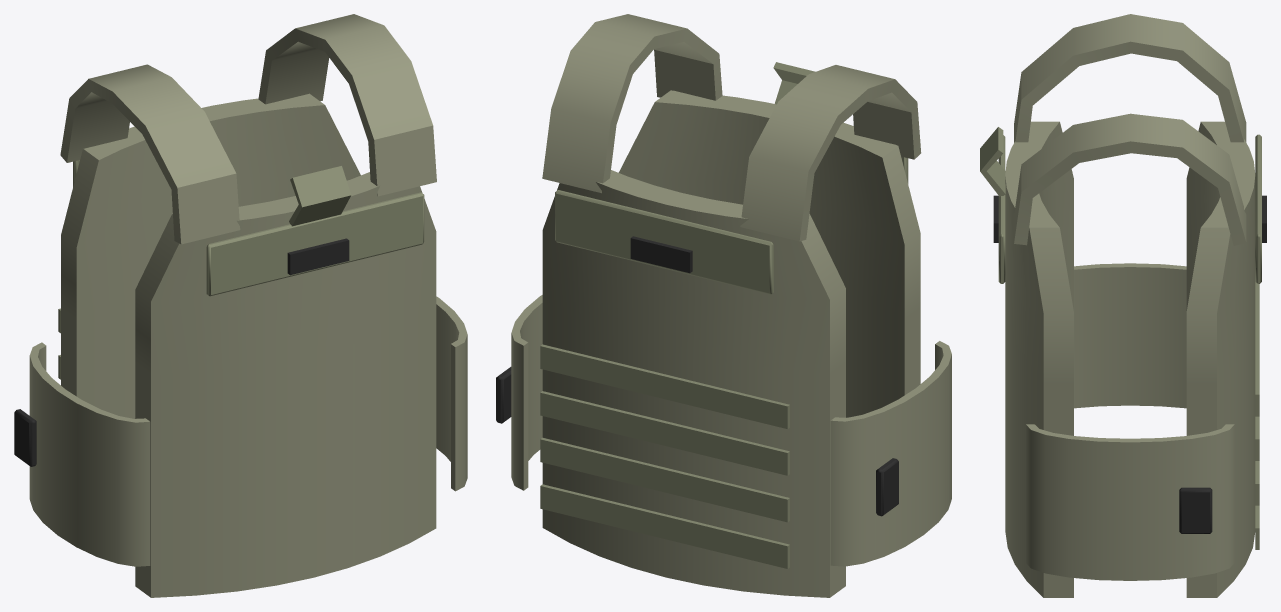
The model's file is vest.glb.
3 renders of one model, left to right at view 1: azimuth 30°, elevation 25°; view 2: azimuth 150°, elevation 25°; view 3: azimuth 270°, elevation 25°, orthographic. The views are drawn at different scales.
Parts seen in each view (by area): view 1: vest; view 2: vest; view 3: vest.
Part boxes in pixels (box(x1,y1,x2,y2)): vest: box(14, 14, 467, 597); vest: box(496, 14, 951, 597); vest: box(980, 14, 1266, 597).
Bounding box in the file's own units: 0.392 × 0.458 × 0.2625.
